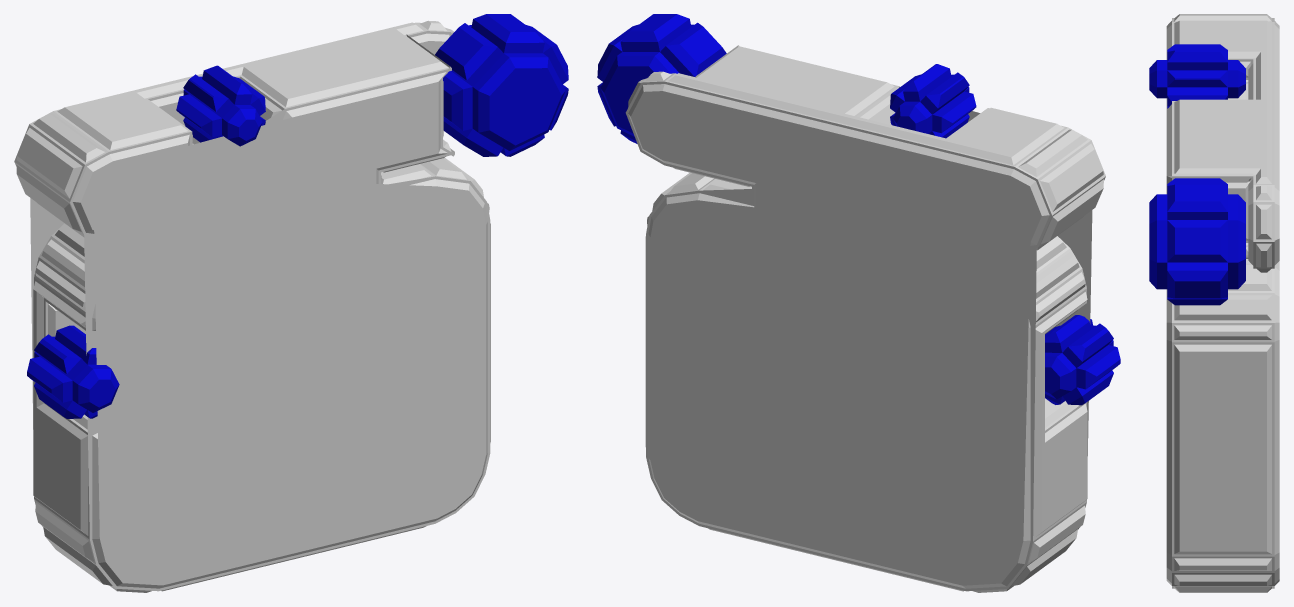
Rendered from Ch_China_西_01.fbx.
The picture shows the model from 3 angles, left to right: view 1: azimuth 30°, elevation 25°; view 2: azimuth 150°, elevation 25°; view 3: azimuth 270°, elevation 25°; orthographic projection. The views are drawn at different scales.
Visible parts, largest first — view 1: sphere1; view 2: sphere1; view 3: sphere1.
Part boxes in pixels (x1,y1,x2,y2): sphere1: (14,14,568,592); sphere1: (597,14,1120,592); sphere1: (1149,14,1279,592).
Size of the model in its own units: 1.07 by 0.971 by 0.2541.
